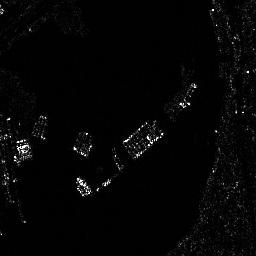ship: (179, 81, 197, 110)
